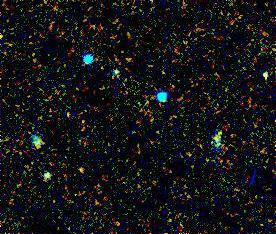star: (69, 155, 99, 185)
